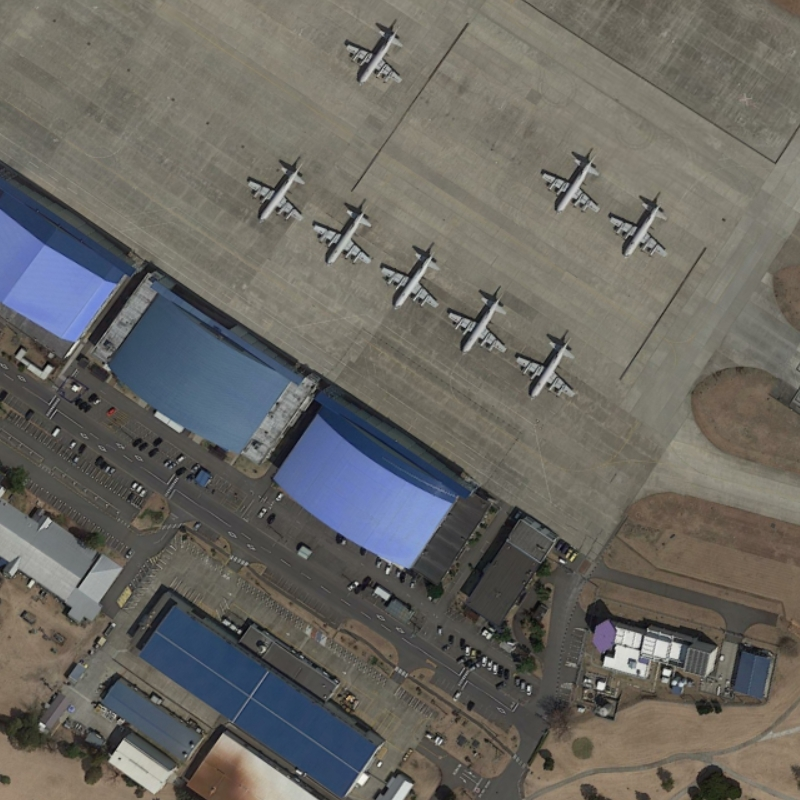A9: (513, 333, 581, 404), (445, 288, 510, 358), (341, 21, 408, 87), (376, 247, 442, 314), (244, 159, 308, 227), (311, 200, 374, 269), (540, 151, 603, 218), (605, 198, 669, 262)
